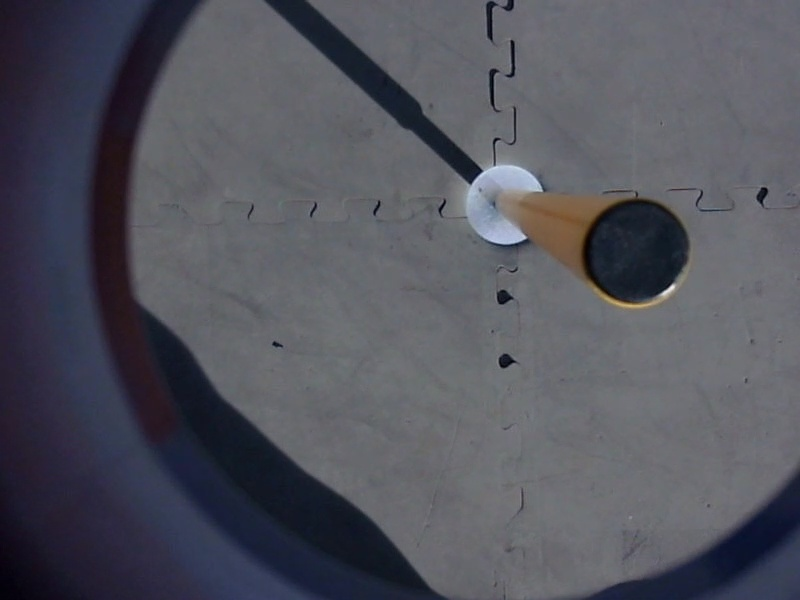tip: (570, 192, 694, 314)
